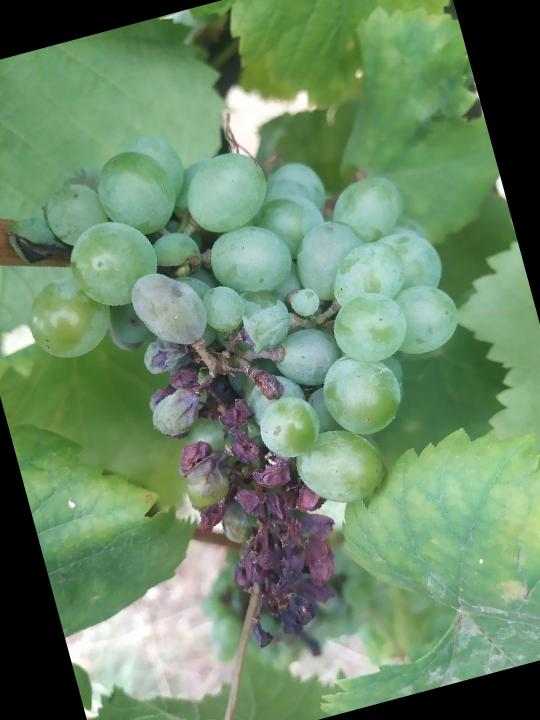grape: (0, 66, 534, 686)
